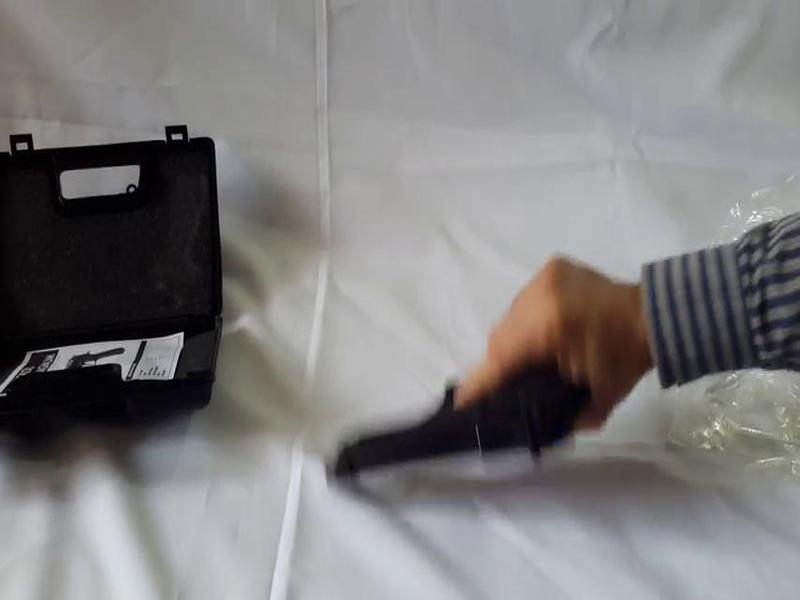Pistola: (303, 342, 616, 522)
